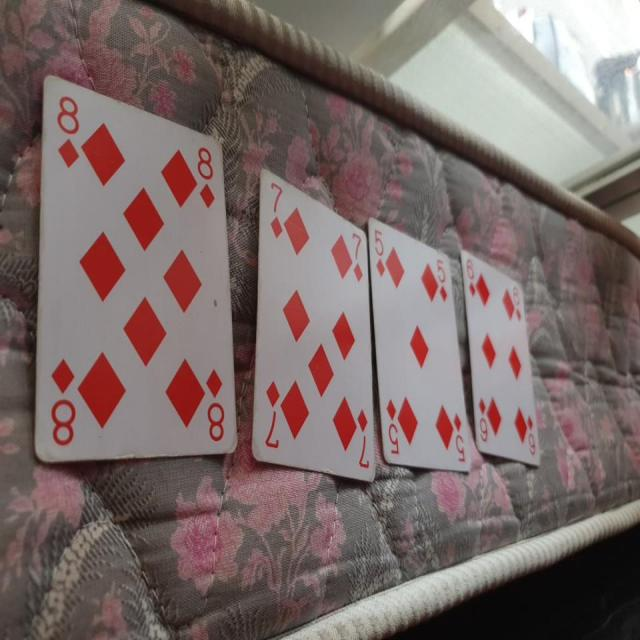5 Diamonds: (365, 214, 470, 473)
6 Diamonds: (458, 247, 543, 469)
7 Diamonds: (248, 168, 376, 484)
8 Diamonds: (30, 71, 239, 465)
